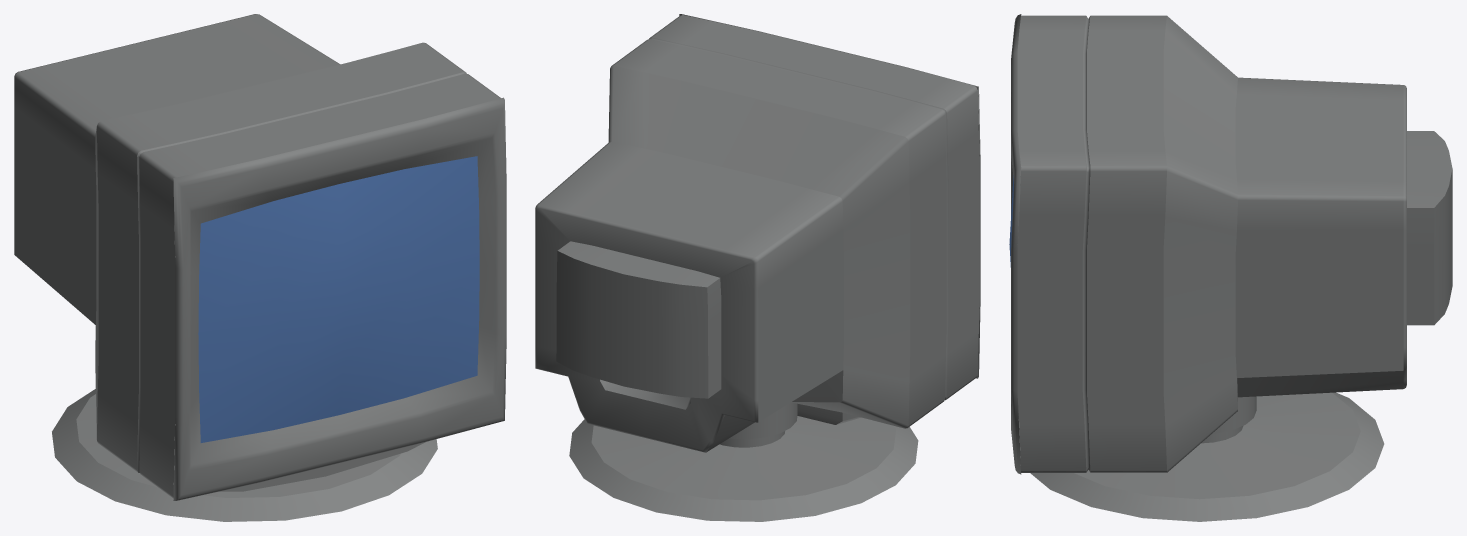
File: Monitor_PC.fbx
The picture shows the model from 3 angles, left to right: view 1: azimuth 30°, elevation 25°; view 2: azimuth 150°, elevation 25°; view 3: azimuth 270°, elevation 25°; orthographic projection. The views are drawn at different scales.
Parts seen in each view (by area): view 1: Screen, Cover, Stand; view 2: Cover, Stand, Screen; view 3: Cover, Stand, Screen.
Part boxes in pixels (x1,y1,x2,y2): Screen: (173,97,506,500); Cover: (14,14,500,498); Stand: (52,389,437,521); Cover: (535,15,979,452); Stand: (569,402,918,521); Screen: (679,14,980,378); Cover: (1017,15,1452,472); Stand: (1030,392,1384,521); Screen: (1009,14,1021,474).
Size of the model in its own units: 40.72 by 42.95 by 48.82.
